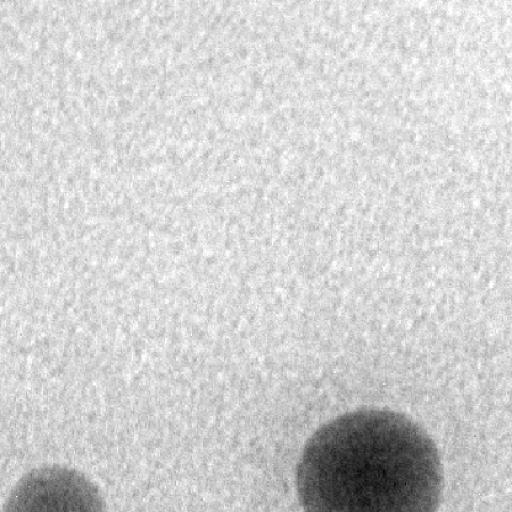Nanoparticles: (296, 407, 440, 509), (4, 467, 105, 512)
